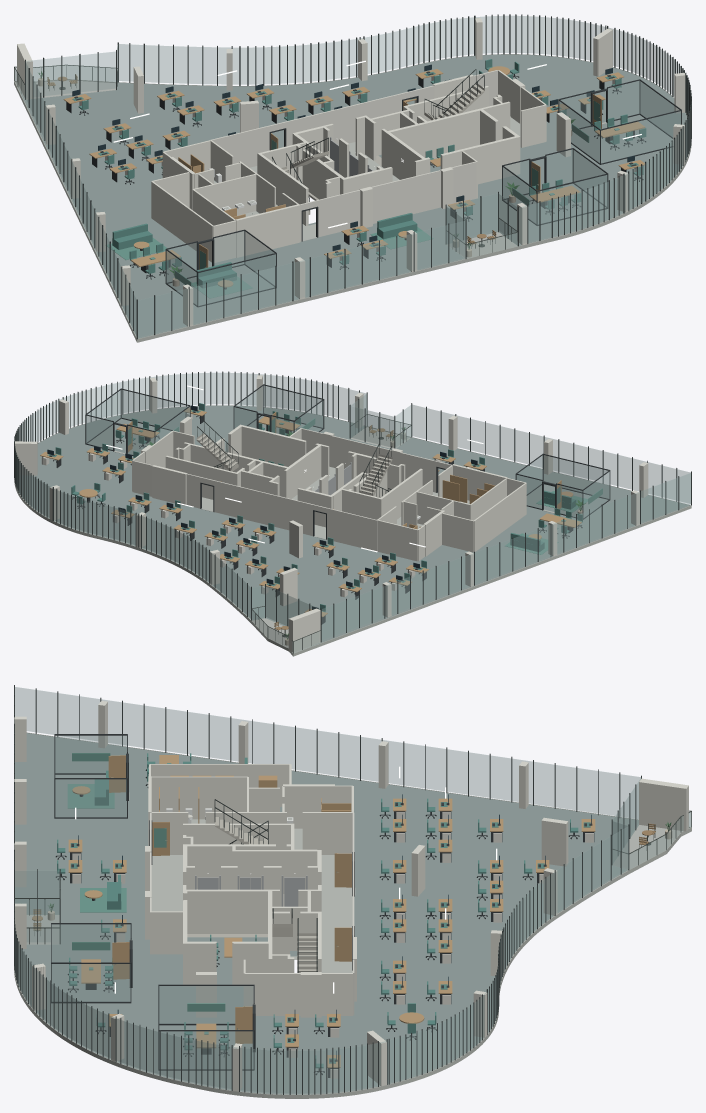
File: office-floor-04-r3.glb
The picture shows the model from 3 angles, top to bottom: view 1: azimuth 30°, elevation 25°; view 2: azimuth 150°, elevation 25°; view 3: azimuth 270°, elevation 25°; orthographic projection. The views are drawn at different scales.
Visible parts, largest first — view 1: SOURCE FLOOR | registered floor slab, SOURCE TRACED PARTITION | corrected R3 tenant south.001, SOURCE WALL | 57, SOURCE WALL | 170, R3 PROPOSED PARTITION | meeting-east.002, R3 PROPOSED PARTITION | focus-west.002, SOURCE TRACED PARTITION | corrected R3 tenant north.001, SOURCE TRACED PARTITION | service corridor.015, SOURCE WALL | 60, R3 PROPOSED PARTITION | meeting-south.002, SOURCE FLOOR | slab edge.148, SOURCE TRACED PARTITION | corrected R3 tenant north (+73 smaller); view 2: SOURCE FLOOR | registered floor slab, SOURCE TRACED PARTITION | corrected R3 tenant north.001, SOURCE TRACED PARTITION | corrected R3 tenant south.001, SOURCE WALL | 60, SOURCE TRACED PARTITION | service corridor.015, R3 PROPOSED PARTITION | focus-west.002, R3 PROPOSED PARTITION | meeting-east.002, SOURCE TRACED PARTITION | corrected R3 tenant north, SOURCE FLOOR | slab edge, R3 PROPOSED PARTITION | meeting-south.002, SOURCE TRACED PARTITION | service corridor, SOURCE WALL | 63 (+37 smaller); view 3: SOURCE FLOOR | registered floor slab, SOURCE CORRIDOR | circulation finish, SOURCE WALL | 56, SOURCE TRACED PARTITION | service corridor.021, SOURCE TRACED PARTITION | service corridor.010, R3 PROPOSED PARTITION | meeting-east, R3 PROPOSED PARTITION | meeting-south.001, R3 PROPOSED PARTITION | focus-west.001, R3 PROPOSED PARTITION | meeting-east.001, SOURCE WALL | 169, R3 PROPOSED PARTITION | meeting-south, SOURCE TRACED PARTITION | service corridor.001 (+54 smaller).
Boxes of the visible parts, box(x1,y1,x2,y2) form: SOURCE FLOOR | registered floor slab: box(17, 54, 687, 338); SOURCE TRACED PARTITION | corrected R3 tenant south.001: box(317, 161, 476, 237); SOURCE WALL | 57: box(388, 108, 482, 158); SOURCE WALL | 170: box(235, 204, 300, 257); R3 PROPOSED PARTITION | meeting-east.002: box(601, 111, 680, 163); R3 PROPOSED PARTITION | focus-west.002: box(198, 254, 275, 305); SOURCE TRACED PARTITION | corrected R3 tenant north.001: box(285, 93, 401, 146); SOURCE TRACED PARTITION | service corridor.015: box(151, 181, 213, 262); SOURCE WALL | 60: box(440, 136, 516, 184); R3 PROPOSED PARTITION | meeting-south.002: box(538, 175, 607, 223); SOURCE FLOOR | slab edge.148: box(137, 244, 527, 342); SOURCE TRACED PARTITION | corrected R3 tenant north: box(210, 125, 269, 167); SOURCE FLOOR | registered floor slab: box(19, 405, 690, 648); SOURCE TRACED PARTITION | corrected R3 tenant north.001: box(214, 480, 313, 535); SOURCE TRACED PARTITION | corrected R3 tenant south.001: box(301, 428, 436, 492); SOURCE WALL | 60: box(241, 425, 306, 466); SOURCE TRACED PARTITION | service corridor.015: box(474, 483, 526, 551); R3 PROPOSED PARTITION | focus-west.002: box(543, 455, 609, 498); R3 PROPOSED PARTITION | meeting-east.002: box(121, 390, 189, 431); SOURCE TRACED PARTITION | corrected R3 tenant north: box(327, 508, 377, 550); SOURCE FLOOR | slab edge: box(293, 505, 691, 656); R3 PROPOSED PARTITION | meeting-south.002: box(264, 385, 322, 427); SOURCE TRACED PARTITION | service corridor: box(377, 520, 417, 561); SOURCE WALL | 63: box(165, 455, 238, 499); SOURCE FLOOR | registered floor slab: box(15, 733, 638, 1094); SOURCE CORRIDOR | circulation finish: box(151, 855, 352, 972); SOURCE WALL | 56: box(183, 889, 272, 933); SOURCE TRACED PARTITION | service corridor.021: box(244, 973, 352, 1015); SOURCE TRACED PARTITION | service corridor.010: box(151, 776, 247, 819); R3 PROPOSED PARTITION | meeting-east: box(159, 986, 253, 1023); R3 PROPOSED PARTITION | meeting-south.001: box(52, 964, 130, 1001); R3 PROPOSED PARTITION | focus-west.001: box(55, 779, 126, 816); R3 PROPOSED PARTITION | meeting-east.001: box(161, 1031, 253, 1068); SOURCE WALL | 169: box(639, 778, 688, 831); R3 PROPOSED PARTITION | meeting-south: box(52, 924, 130, 961); SOURCE TRACED PARTITION | service corridor.001: box(302, 812, 352, 854).
Bounding box in the file's own units: 49.76 × 5.32 × 39.12.
